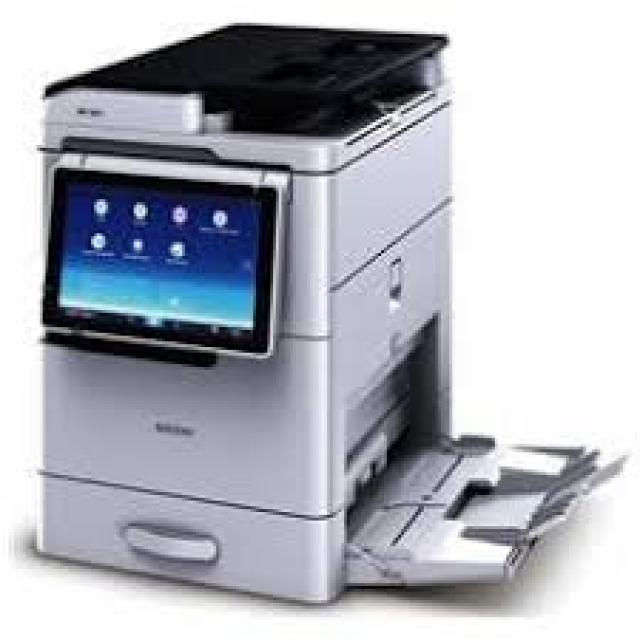printer: (28, 20, 626, 606)
